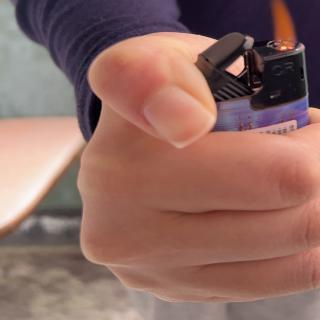fire: (263, 0, 299, 54)
